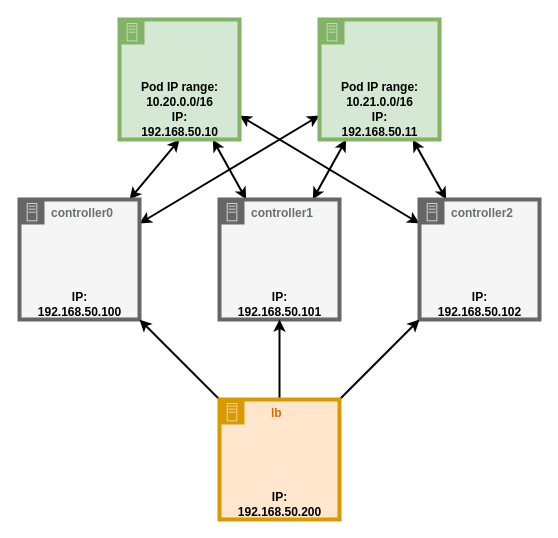
This 558x538 diagram has some shape labels left out. Here are the shapes that lost their labels. From the top down, the box of each, then its label:
(117, 17, 241, 141): worker0
(317, 17, 441, 141): worker1
